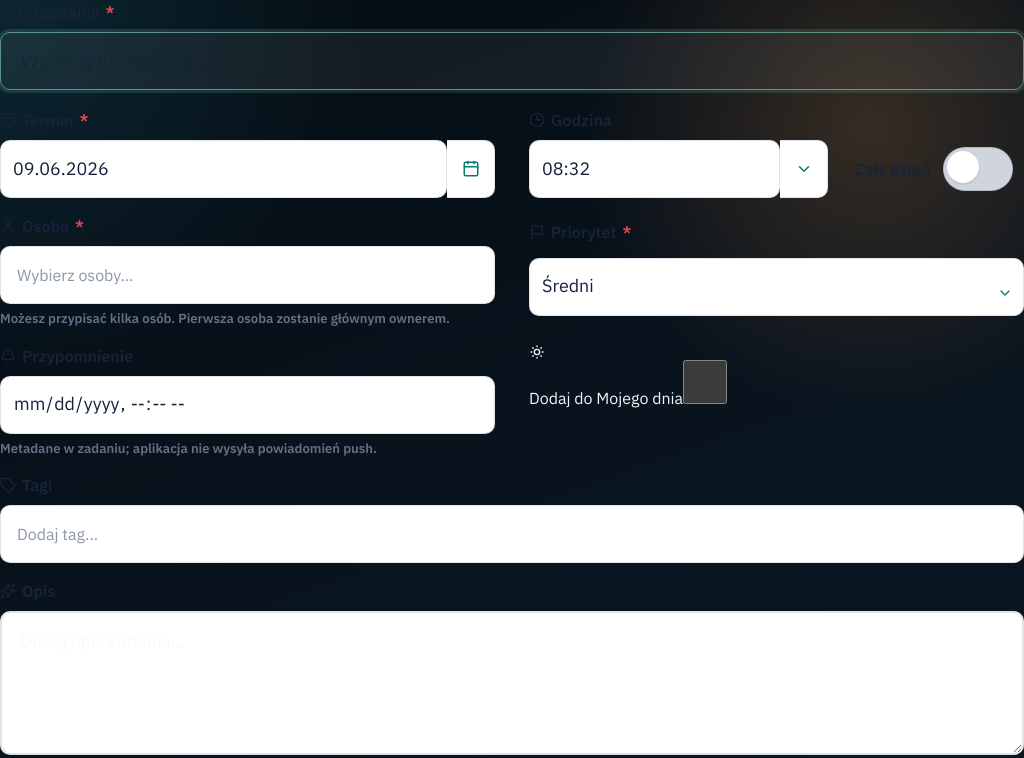
Test: Regression: Issue #0 - unified screenshot task form › opens a time list and selects a 15-minute slot
Click the button named "Otwórz listę godzin" at {"x": 804, "y": 169}, box [780,140,828,198]
(page scrolled)
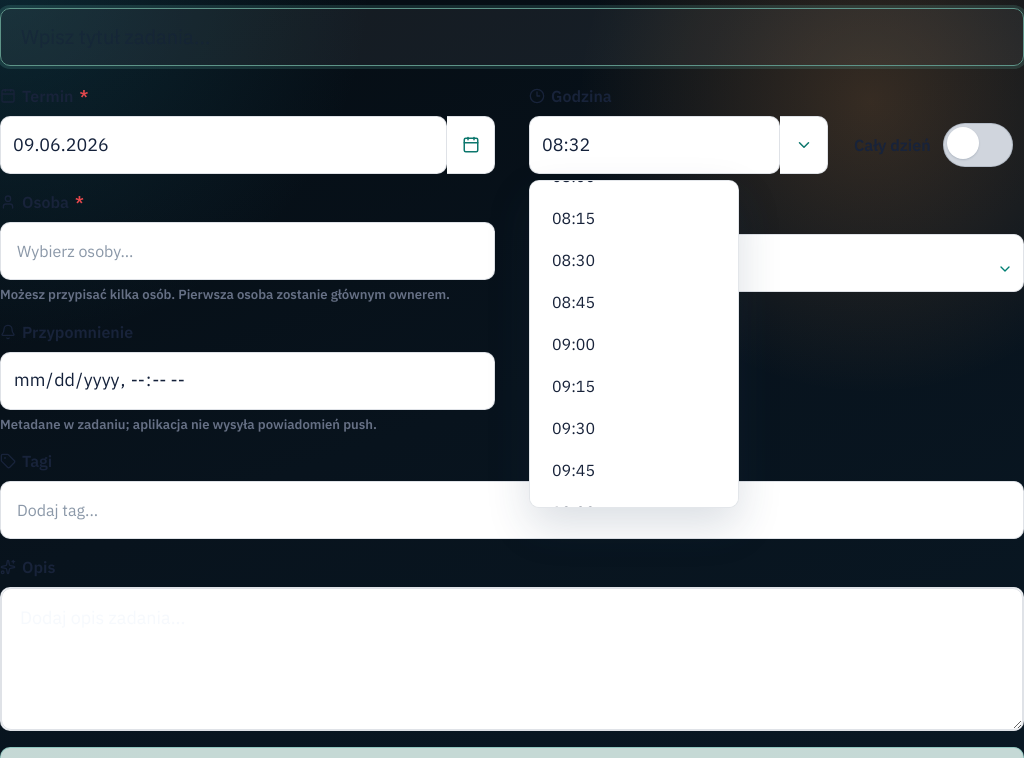
Check: the list named "Lista godzin" is shown, box [529,180,739,508]
Click the option "09:00" at {"x": 634, "y": 344}, box [538,323,730,365]
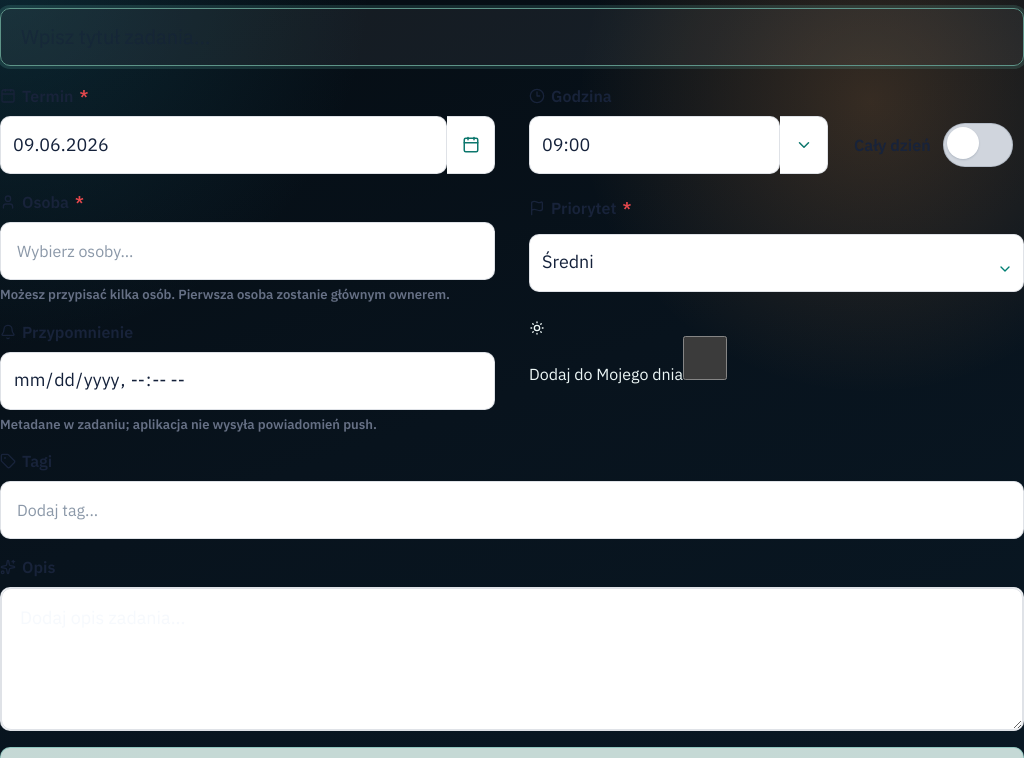
Check: the field named "Wybierz godzinę" holds "09:00", box [529,116,780,174]
